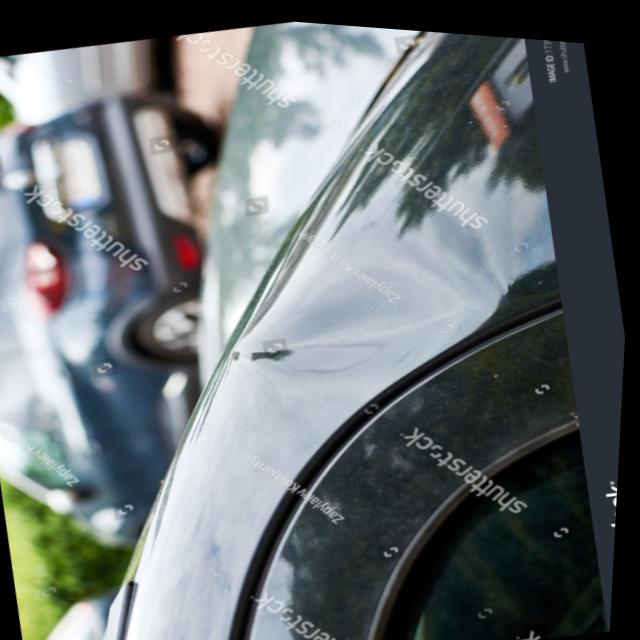Dent: (239, 288, 392, 403)
